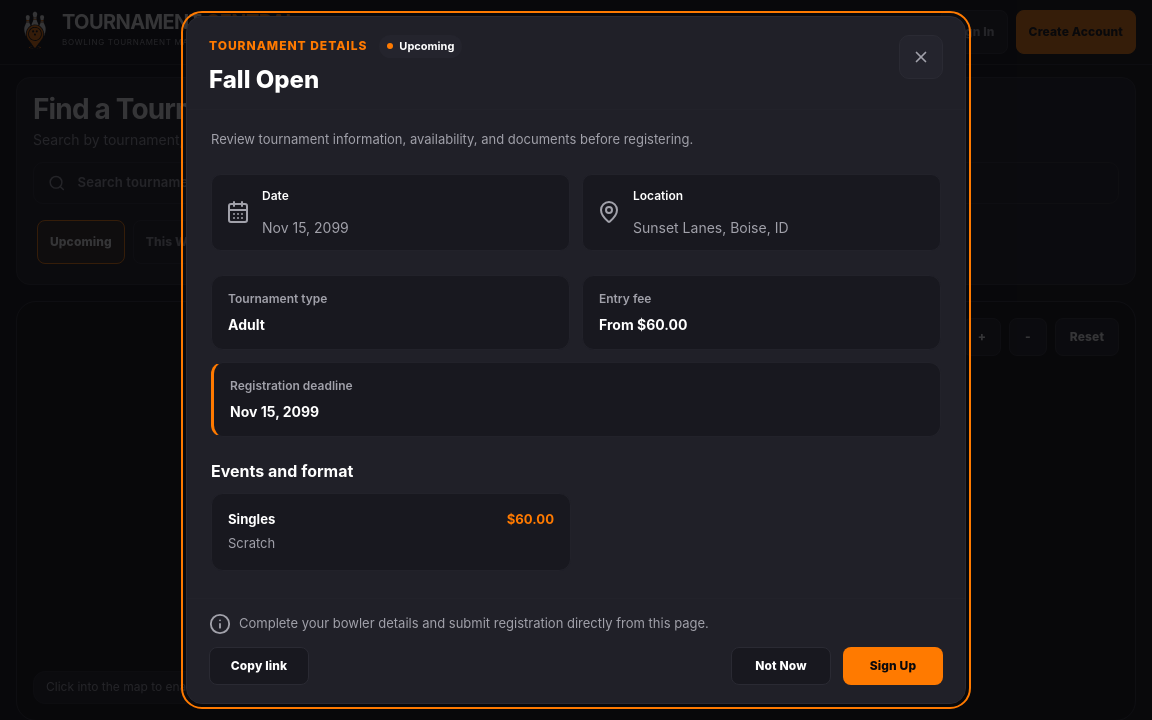
Scenario: public tournament discovery › surfaces copy failures without claiming the link was copied
Click the button "Copy link". click: (259, 666)
box: [209, 647, 309, 685]
(page scrolled)
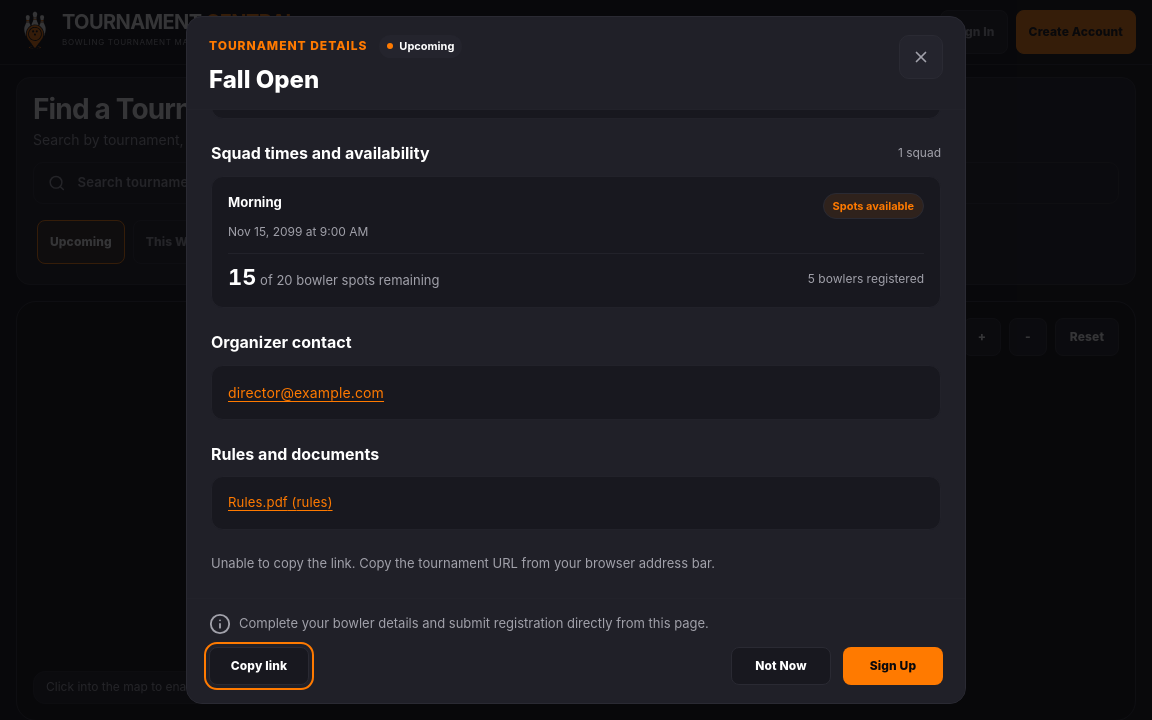
Now the message shows "Copy the tournament URL from your browser address bar.", box [211, 555, 715, 571]
